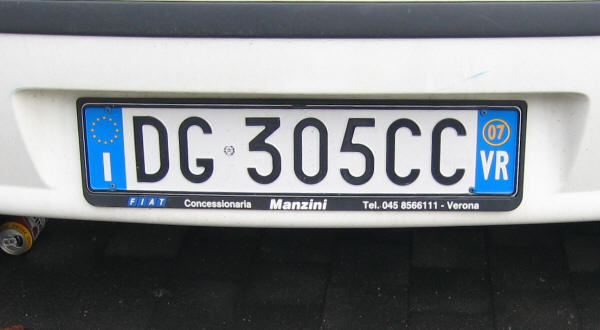license_plate: (79, 103, 520, 199)
